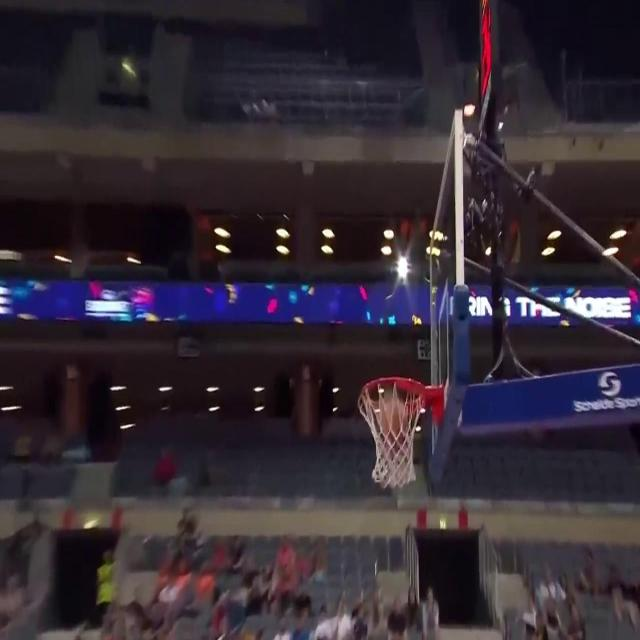basketball: (379, 396, 409, 452)
hoop: (358, 374, 427, 494), (358, 374, 426, 494)
